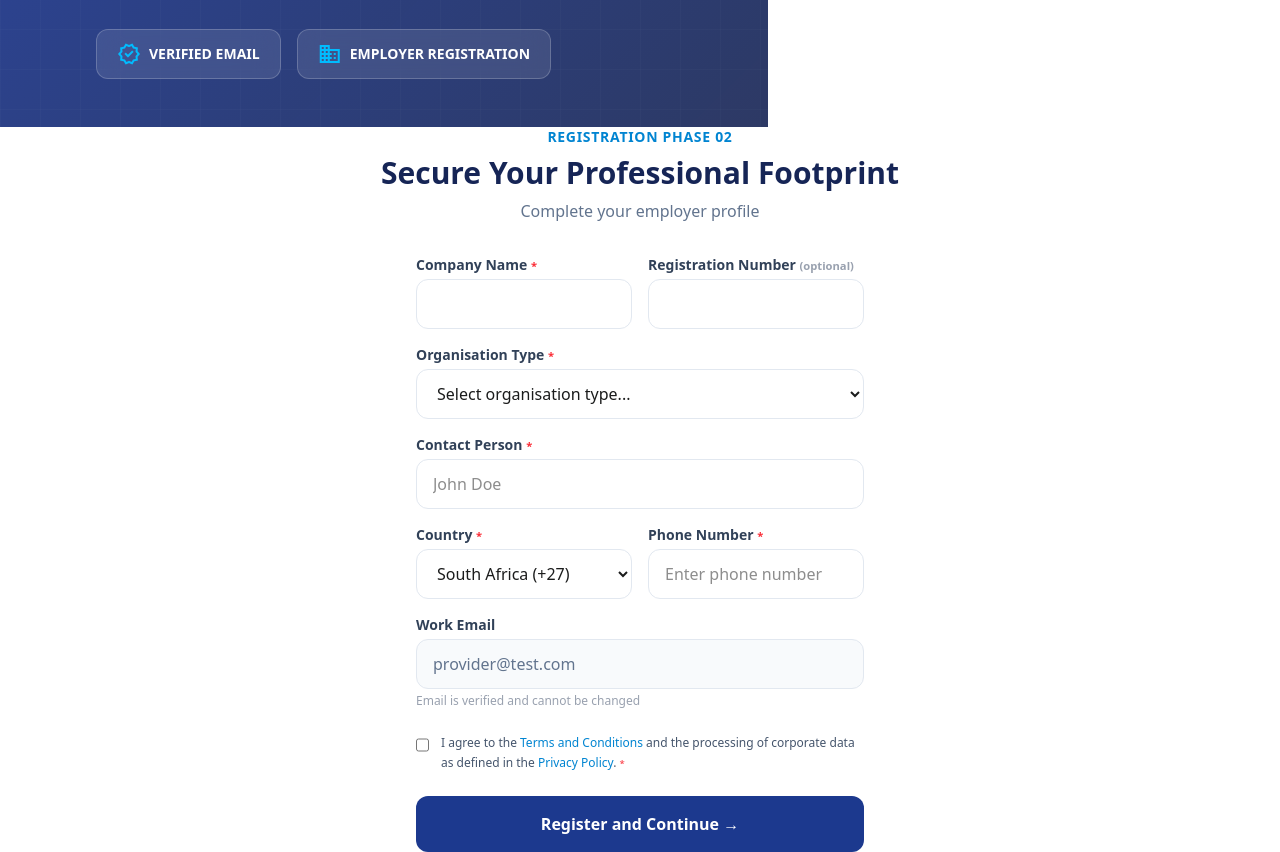
Test case: ProviderRegistration › shows validation errors on empty submit
This screenshot has width=1280, height=852.
(page scrolled)
Click the button "Register and Continue →" at (640, 824), box x1=416 y1=796 x2=864 y2=851
(page scrolled)
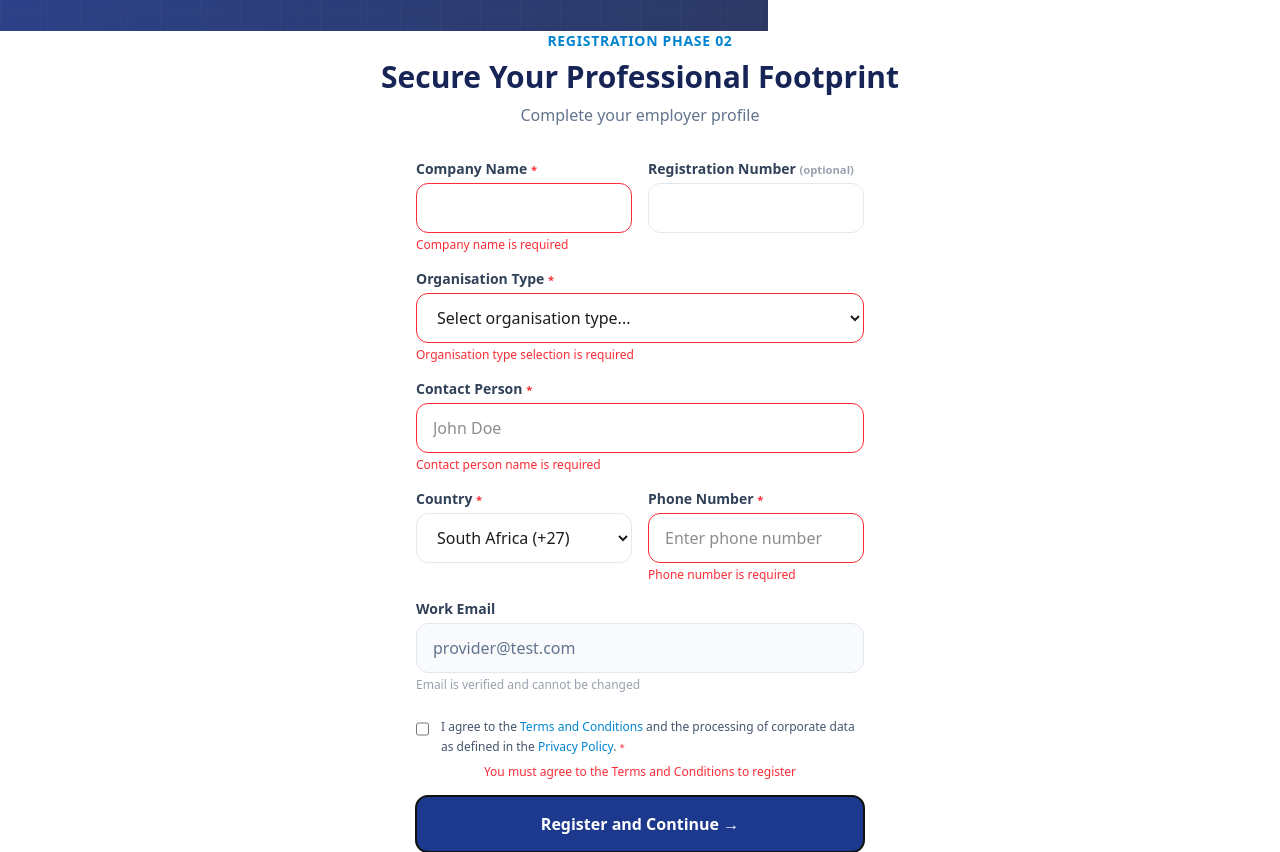
Expected: the text "Company name is required" is shown, x1=416 y1=236 x2=568 y2=253
Expected: the text "Contact person name is required" is shown, x1=416 y1=456 x2=601 y2=473
Expected: the text "Phone number is required" is shown, x1=648 y1=566 x2=796 y2=583
